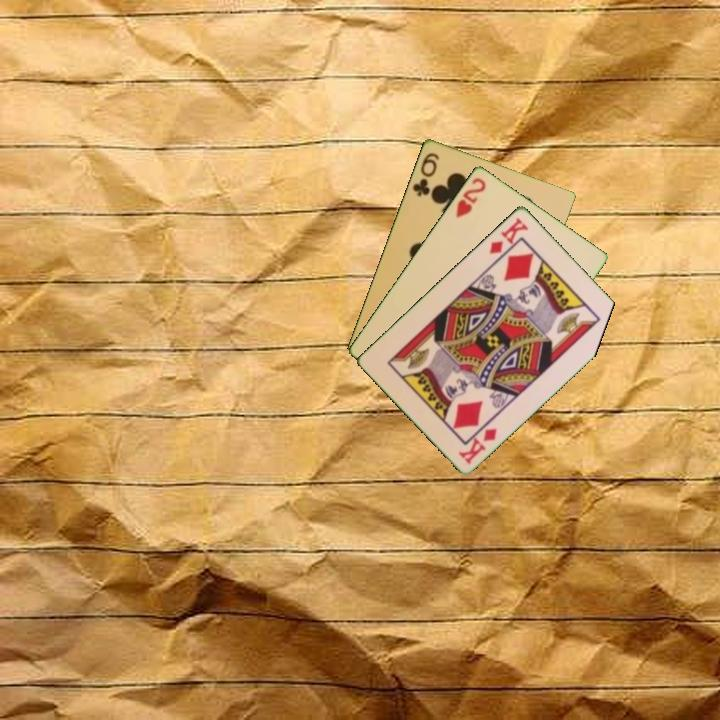2h: (452, 173, 489, 220)
6c: (409, 149, 442, 199)
Kd: (485, 213, 531, 257), (455, 424, 500, 467)
